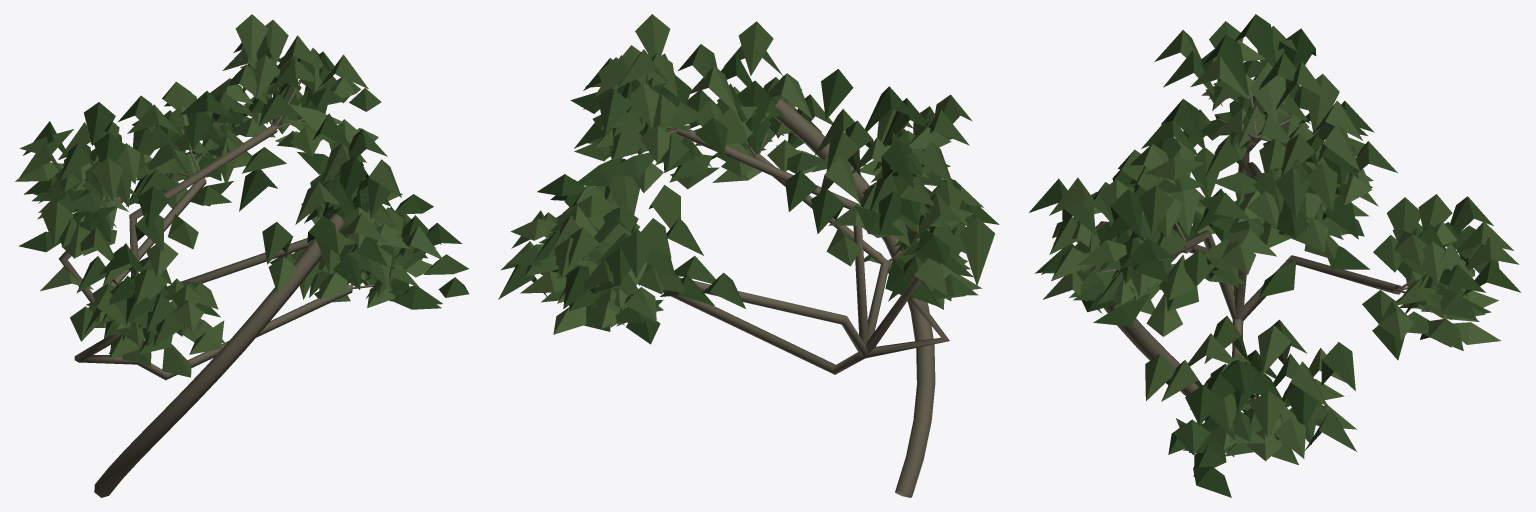
File: prop_bush.glb
3 views of the same model, side by side, from view 1: azimuth 30°, elevation 25°; view 2: azimuth 150°, elevation 25°; view 3: azimuth 270°, elevation 25° (orthographic). The views are drawn at different scales.
Parts seen in each view (by area): view 1: base__art06_canopy_prop_bush, base__art06_weathered_bark; view 2: base__art06_canopy_prop_bush, base__art06_weathered_bark; view 3: base__art06_canopy_prop_bush, base__art06_weathered_bark.
Part boxes in pixels (x1=…): base__art06_canopy_prop_bush: x1=15, y1=14, x2=469, y2=377; base__art06_weathered_bark: x1=58, y1=81, x2=391, y2=497; base__art06_canopy_prop_bush: x1=498, y1=14, x2=999, y2=344; base__art06_weathered_bark: x1=631, y1=98, x2=949, y2=497; base__art06_canopy_prop_bush: x1=1029, y1=14, x2=1521, y2=497; base__art06_weathered_bark: x1=1089, y1=97, x2=1415, y2=413.
Bounding box in the file's own units: 2.62 × 2.36 × 2.37.
